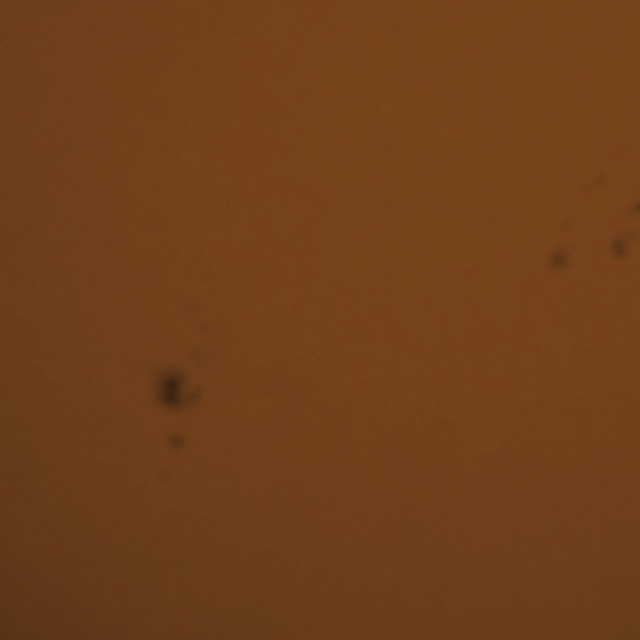sunspot: (609, 230, 632, 262), (162, 430, 187, 453)
